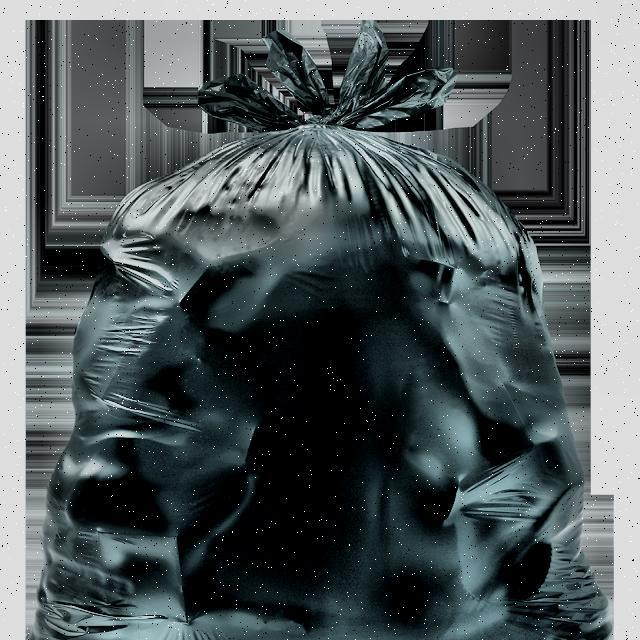Trashbag: (24, 24, 588, 640)
